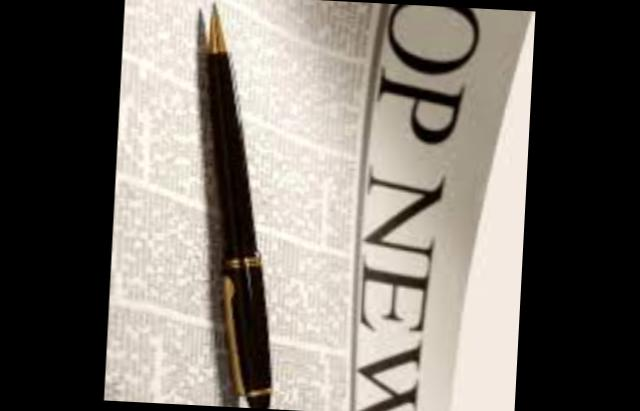cardboard paper: (104, 0, 534, 411)
